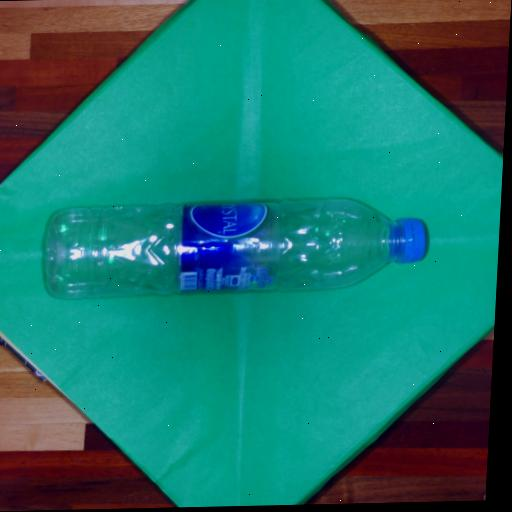bottle: (36, 187, 443, 307)
